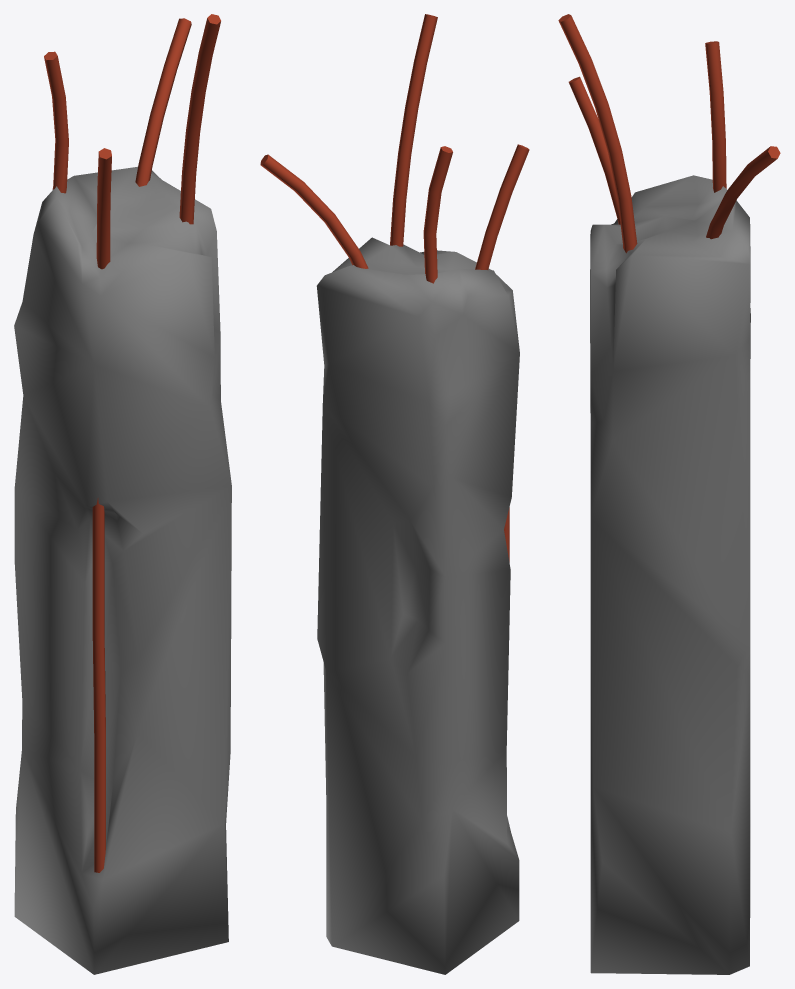
The model's file is SM_pillar_broken_01.fbx.
3 renders of one model, left to right at view 1: azimuth 30°, elevation 25°; view 2: azimuth 150°, elevation 25°; view 3: azimuth 270°, elevation 25°, orthographic. The views are drawn at different scales.
Visible parts, largest first — view 1: Object32351; view 2: Object32351; view 3: Object32351.
Part boxes in pixels (x1=…): Object32351: x1=14, y1=14, x2=231, y2=974; Object32351: x1=260, y1=14, x2=529, y2=974; Object32351: x1=558, y1=14, x2=780, y2=974.
Bounding box in the file's own units: 25.24 × 119 × 25.43.
